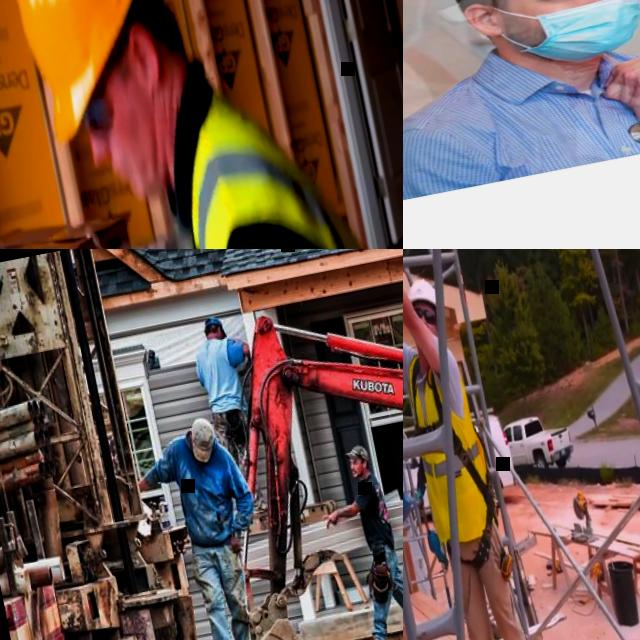Hardhat: (0, 0, 186, 148), (406, 276, 438, 308)
Mask: (530, 0, 640, 69), (403, 2, 442, 58)
NO-Hardhat: (188, 416, 220, 462), (344, 443, 371, 463), (204, 313, 223, 330)
NO-Mask: (112, 98, 172, 202), (350, 465, 366, 477)
NO-Safety Vest: (170, 430, 236, 546), (198, 334, 242, 412), (356, 477, 394, 545)
Person: (0, 0, 368, 249), (403, 249, 560, 640), (403, 0, 640, 212), (126, 410, 286, 640), (186, 308, 279, 516), (309, 436, 403, 640), (403, 0, 456, 138)
Safety Vest: (168, 74, 367, 249), (403, 345, 498, 547)
vehicle: (192, 250, 403, 640), (0, 509, 116, 640), (403, 406, 522, 525), (502, 409, 576, 477)
